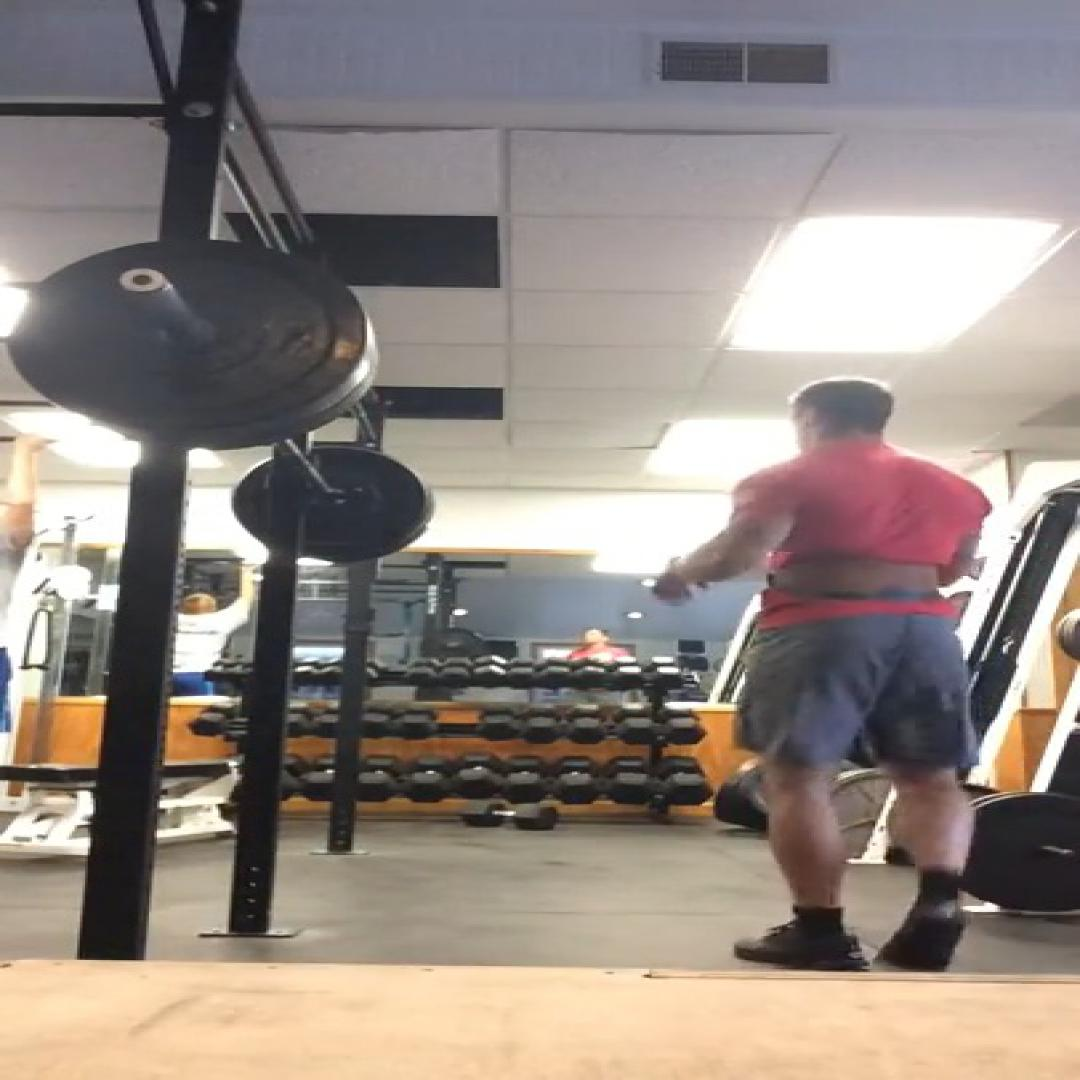Bar: (122, 267, 162, 293)
Barbell: (5, 238, 367, 431)
